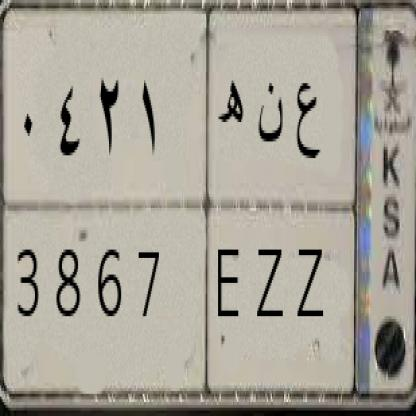english: (3, 192, 357, 404)
